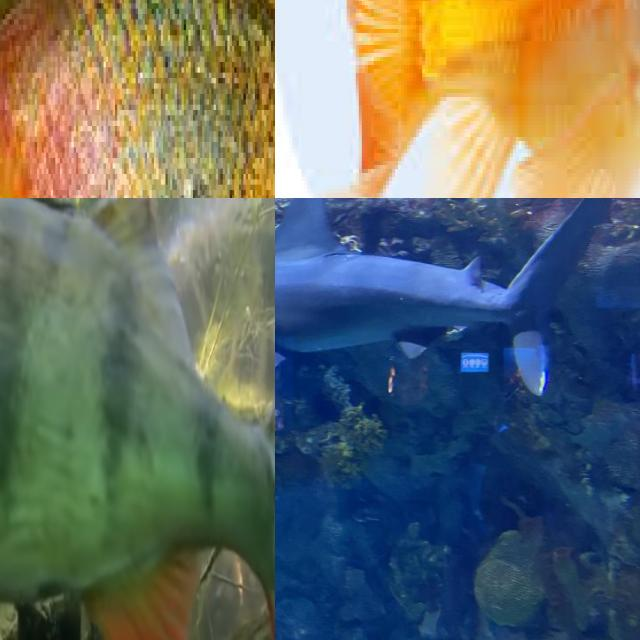fish: (0, 198, 227, 640), (275, 0, 640, 198), (0, 0, 275, 198)
